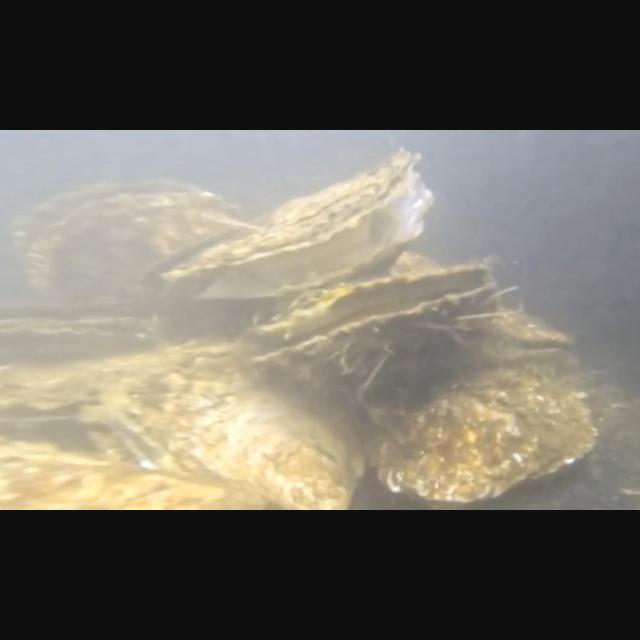Oyster-Closed: (377, 360, 601, 506), (0, 434, 282, 511)
Oyster-Open: (158, 146, 436, 314), (110, 352, 370, 511), (0, 176, 242, 318), (250, 260, 500, 392), (1, 336, 246, 436), (1, 310, 168, 362), (458, 306, 572, 366)
